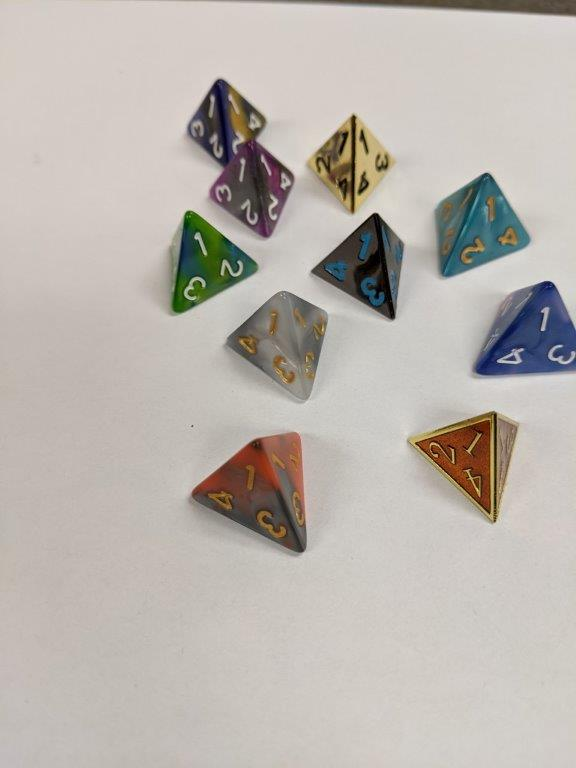d4-1: (192, 429, 311, 558), (406, 410, 520, 526), (224, 290, 329, 402), (307, 213, 406, 321), (436, 172, 532, 281), (202, 139, 302, 240), (475, 281, 576, 377), (304, 113, 396, 217), (170, 210, 258, 314), (182, 77, 270, 164)
